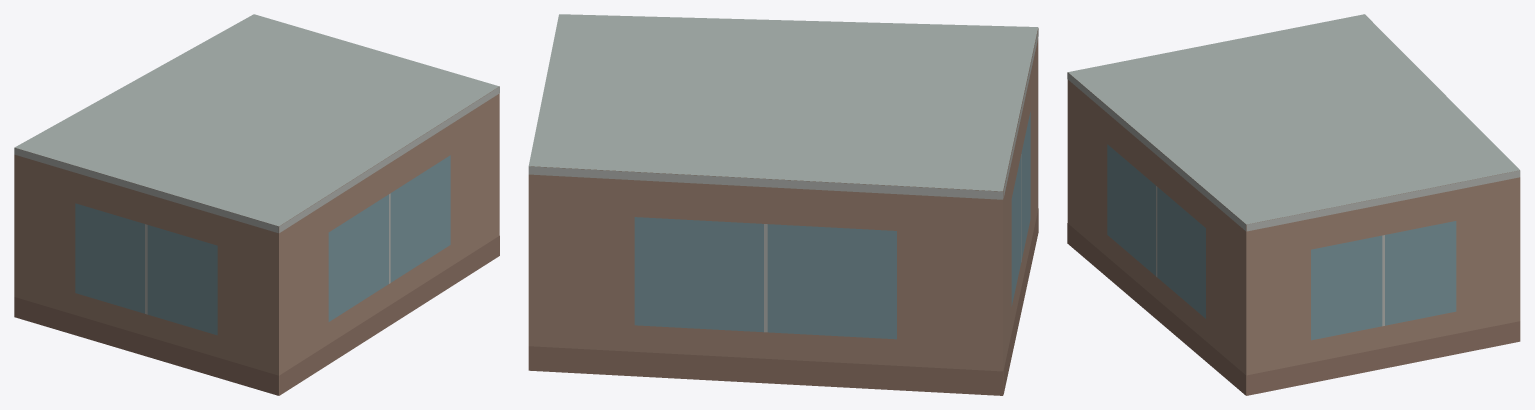
Rendered from survey-upis-32467707.glb.
3 renders of one model, left to right at view 1: azimuth 30°, elevation 25°; view 2: azimuth 150°, elevation 25°; view 3: azimuth 270°, elevation 25°, orthographic. The views are drawn at different scales.
Visible parts, largest first — view 1: survey-upis-32467707.tmp; view 2: survey-upis-32467707.tmp; view 3: survey-upis-32467707.tmp.
Part boxes in pixels (x1,y1,x2,y2): survey-upis-32467707.tmp: (14,14,499,395); survey-upis-32467707.tmp: (528,14,1038,395); survey-upis-32467707.tmp: (1067,14,1520,395).
Size of the model in its own units: 8.05 by 3.05 by 7.31.
